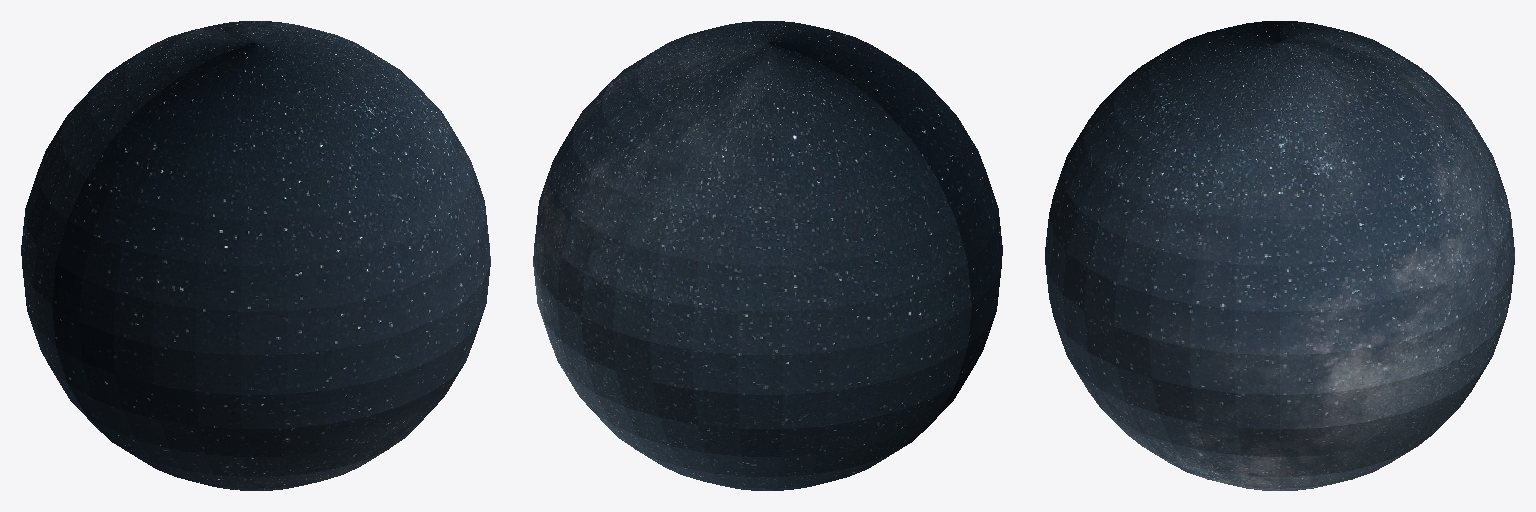
The picture shows the model from 3 angles: view 1: azimuth 30°, elevation 25°; view 2: azimuth 150°, elevation 25°; view 3: azimuth 270°, elevation 25°; orthographic projection.
Visible parts, largest first — view 1: 球; view 2: 球; view 3: 球.
Boxes of the visible parts, box(x1,y1,x2,y2) form: 球: box(21, 21, 490, 490); 球: box(533, 21, 1002, 490); 球: box(1045, 21, 1514, 490).
Bounding box in the file's own units: 2 × 2 × 2.
Materials: 1 (1 with a texture image).